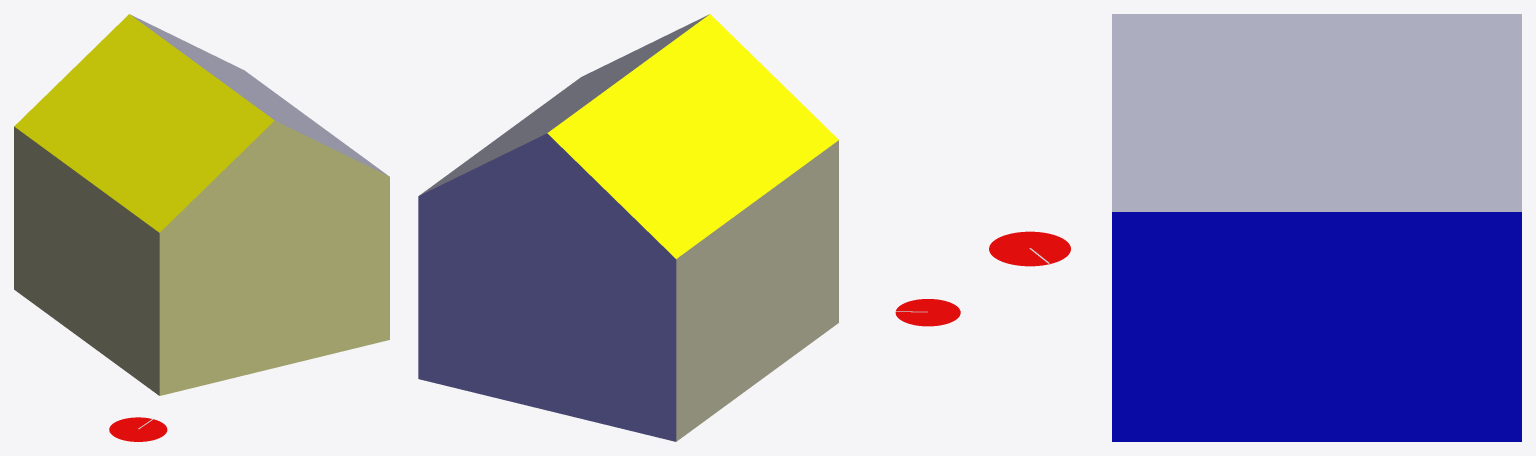
The model's file is result.glb.
3 views of the same model, side by side, from view 1: azimuth 30°, elevation 25°; view 2: azimuth 150°, elevation 25°; view 3: azimuth 270°, elevation 25° (orthographic). The views are drawn at different scales.
Visible parts, largest first — view 1: bda24701-9fc5-45d5-8b11-22e8a974cda5__undefined, 66caac97-6dac-427c-beae-198588722424__undefined, 63c62efe-9a04-4fbc-845b-30fd9f3a539a__undefined, e2034d65-36f4-431c-9871-f610b4bc12c3__undefined, 2d5d34df-92d2-4e26-91f7-ac940ad9847c__Circle; view 2: d55f31f7-3121-4559-999c-b1b4d337dd0b__undefined, 66caac97-6dac-427c-beae-198588722424__undefined, 63c62efe-9a04-4fbc-845b-30fd9f3a539a__undefined, e2034d65-36f4-431c-9871-f610b4bc12c3__undefined, 2d5d34df-92d2-4e26-91f7-ac940ad9847c__Circle; view 3: 62bda552-af8b-41e9-be42-18bdf36485b9__undefined, e2034d65-36f4-431c-9871-f610b4bc12c3__undefined, 2d5d34df-92d2-4e26-91f7-ac940ad9847c__Circle.
Part boxes in pixels (x1,y1,x2,y2): bda24701-9fc5-45d5-8b11-22e8a974cda5__undefined: [159, 120, 389, 395]; 66caac97-6dac-427c-beae-198588722424__undefined: [14, 14, 274, 232]; 63c62efe-9a04-4fbc-845b-30fd9f3a539a__undefined: [14, 126, 159, 395]; e2034d65-36f4-431c-9871-f610b4bc12c3__undefined: [130, 14, 388, 175]; 2d5d34df-92d2-4e26-91f7-ac940ad9847c__Circle: [109, 417, 167, 441]; d55f31f7-3121-4559-999c-b1b4d337dd0b__undefined: [418, 133, 676, 441]; 66caac97-6dac-427c-beae-198588722424__undefined: [547, 14, 838, 258]; 63c62efe-9a04-4fbc-845b-30fd9f3a539a__undefined: [676, 140, 838, 441]; e2034d65-36f4-431c-9871-f610b4bc12c3__undefined: [419, 14, 709, 195]; 2d5d34df-92d2-4e26-91f7-ac940ad9847c__Circle: [895, 299, 960, 326]; 62bda552-af8b-41e9-be42-18bdf36485b9__undefined: [1112, 212, 1521, 441]; e2034d65-36f4-431c-9871-f610b4bc12c3__undefined: [1112, 14, 1521, 211]; 2d5d34df-92d2-4e26-91f7-ac940ad9847c__Circle: [989, 231, 1070, 266].
Size of the model in its own units: 607 by 469 by 650.
